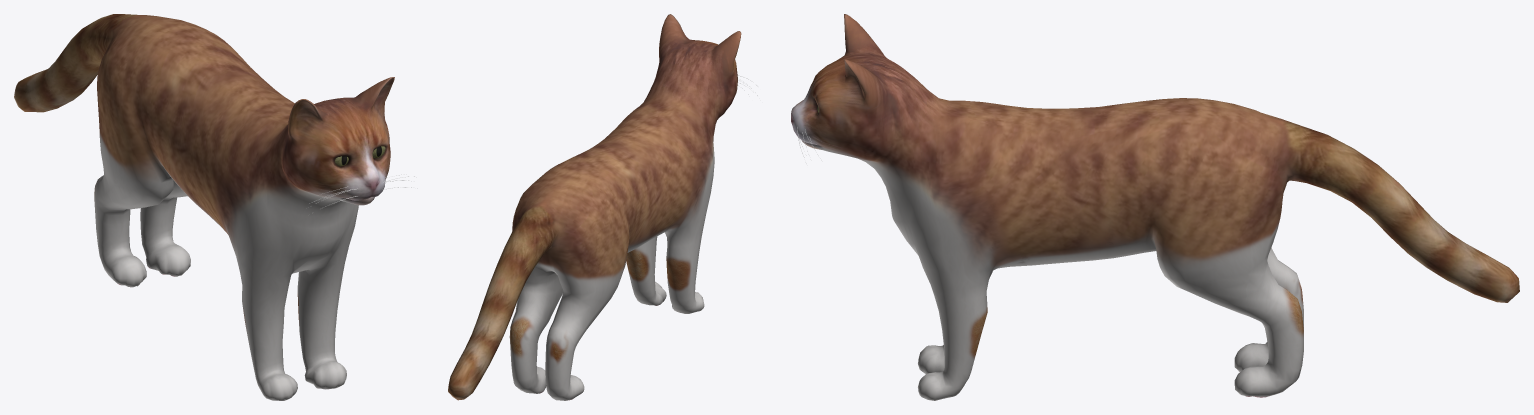
Rendered from Colourpoint(Himalayan)old.glb.
3 renders of one model, left to right at view 1: azimuth 30°, elevation 25°; view 2: azimuth 150°, elevation 25°; view 3: azimuth 270°, elevation 25°, orthographic. The views are drawn at different scales.
Visible parts, largest first — view 1: high_poly; view 2: high_poly; view 3: high_poly.
Part boxes in pixels (x1=…): high_poly: x1=14, y1=14, x2=394, y2=400; high_poly: x1=448, y1=14, x2=741, y2=400; high_poly: x1=791, y1=14, x2=1519, y2=400.
Bounding box in the file's own units: 0.8994 × 2.35 × 4.46.
3 materials, 2 textured.
